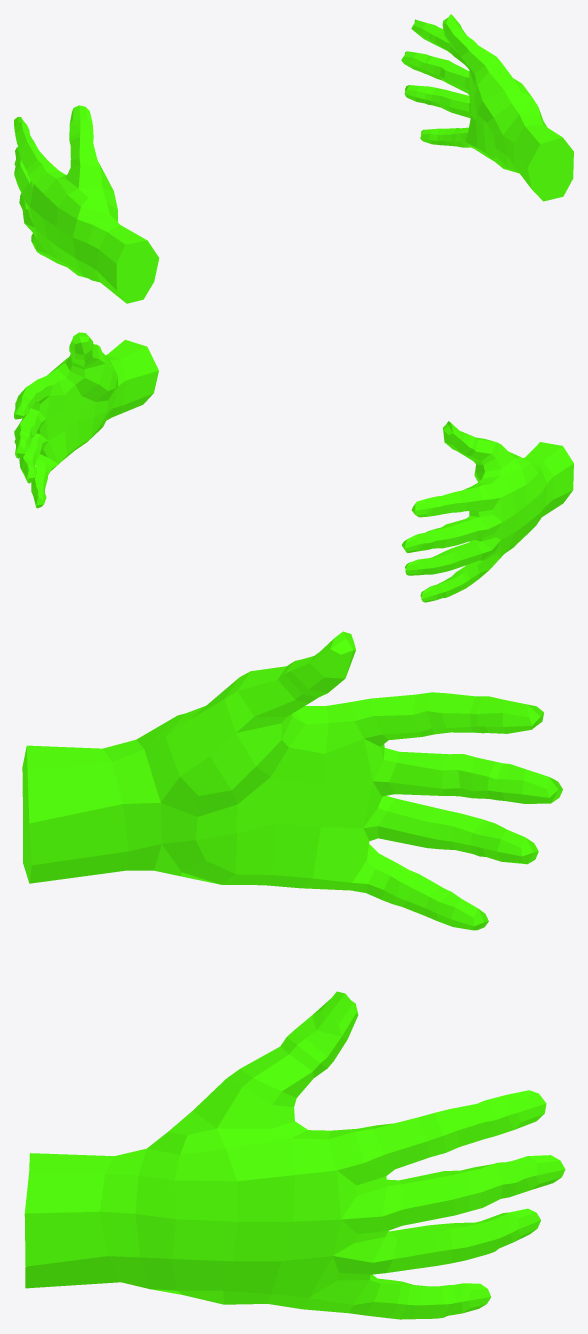
Rendered from Hands.gltf.
The picture shows the model from 3 angles, top to bottom: view 1: azimuth 30°, elevation 25°; view 2: azimuth 150°, elevation 25°; view 3: azimuth 270°, elevation 25°; orthographic projection. The views are drawn at different scales.
Parts seen in each view (by area): view 1: LeftHand, RightHand; view 2: LeftHand, RightHand; view 3: RightHand, LeftHand.
Boxes of the visible parts, x1,y1,x2,y2 form: LeftHand: (14, 105, 159, 303); RightHand: (401, 14, 573, 201); LeftHand: (401, 421, 573, 602); RightHand: (14, 332, 158, 508); RightHand: (24, 991, 565, 1319); LeftHand: (22, 631, 562, 930).
Size of the model in its own units: 0.5447 by 0.1691 by 0.271.
